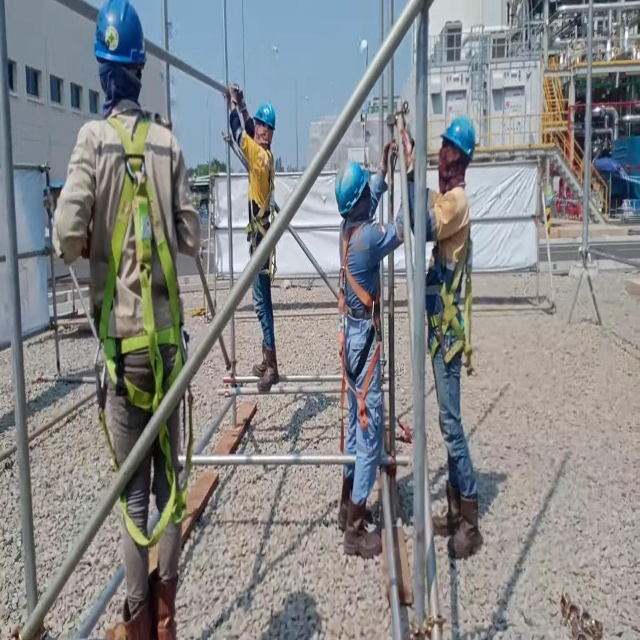Arnes_seguridad: (90, 102, 196, 543), (337, 220, 388, 459), (424, 229, 476, 380), (244, 143, 280, 284)
